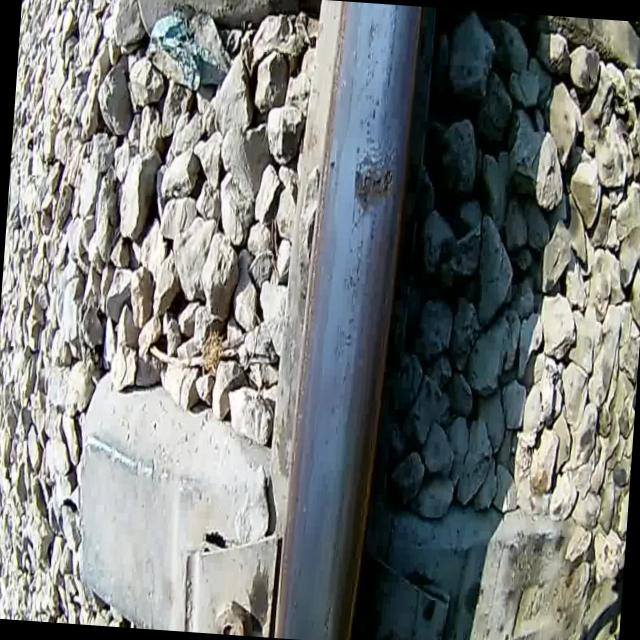Grooves: (327, 222, 369, 396), (357, 11, 388, 138), (376, 4, 406, 130)
Spallings: (362, 164, 395, 199)
Squats: (344, 130, 399, 238)
